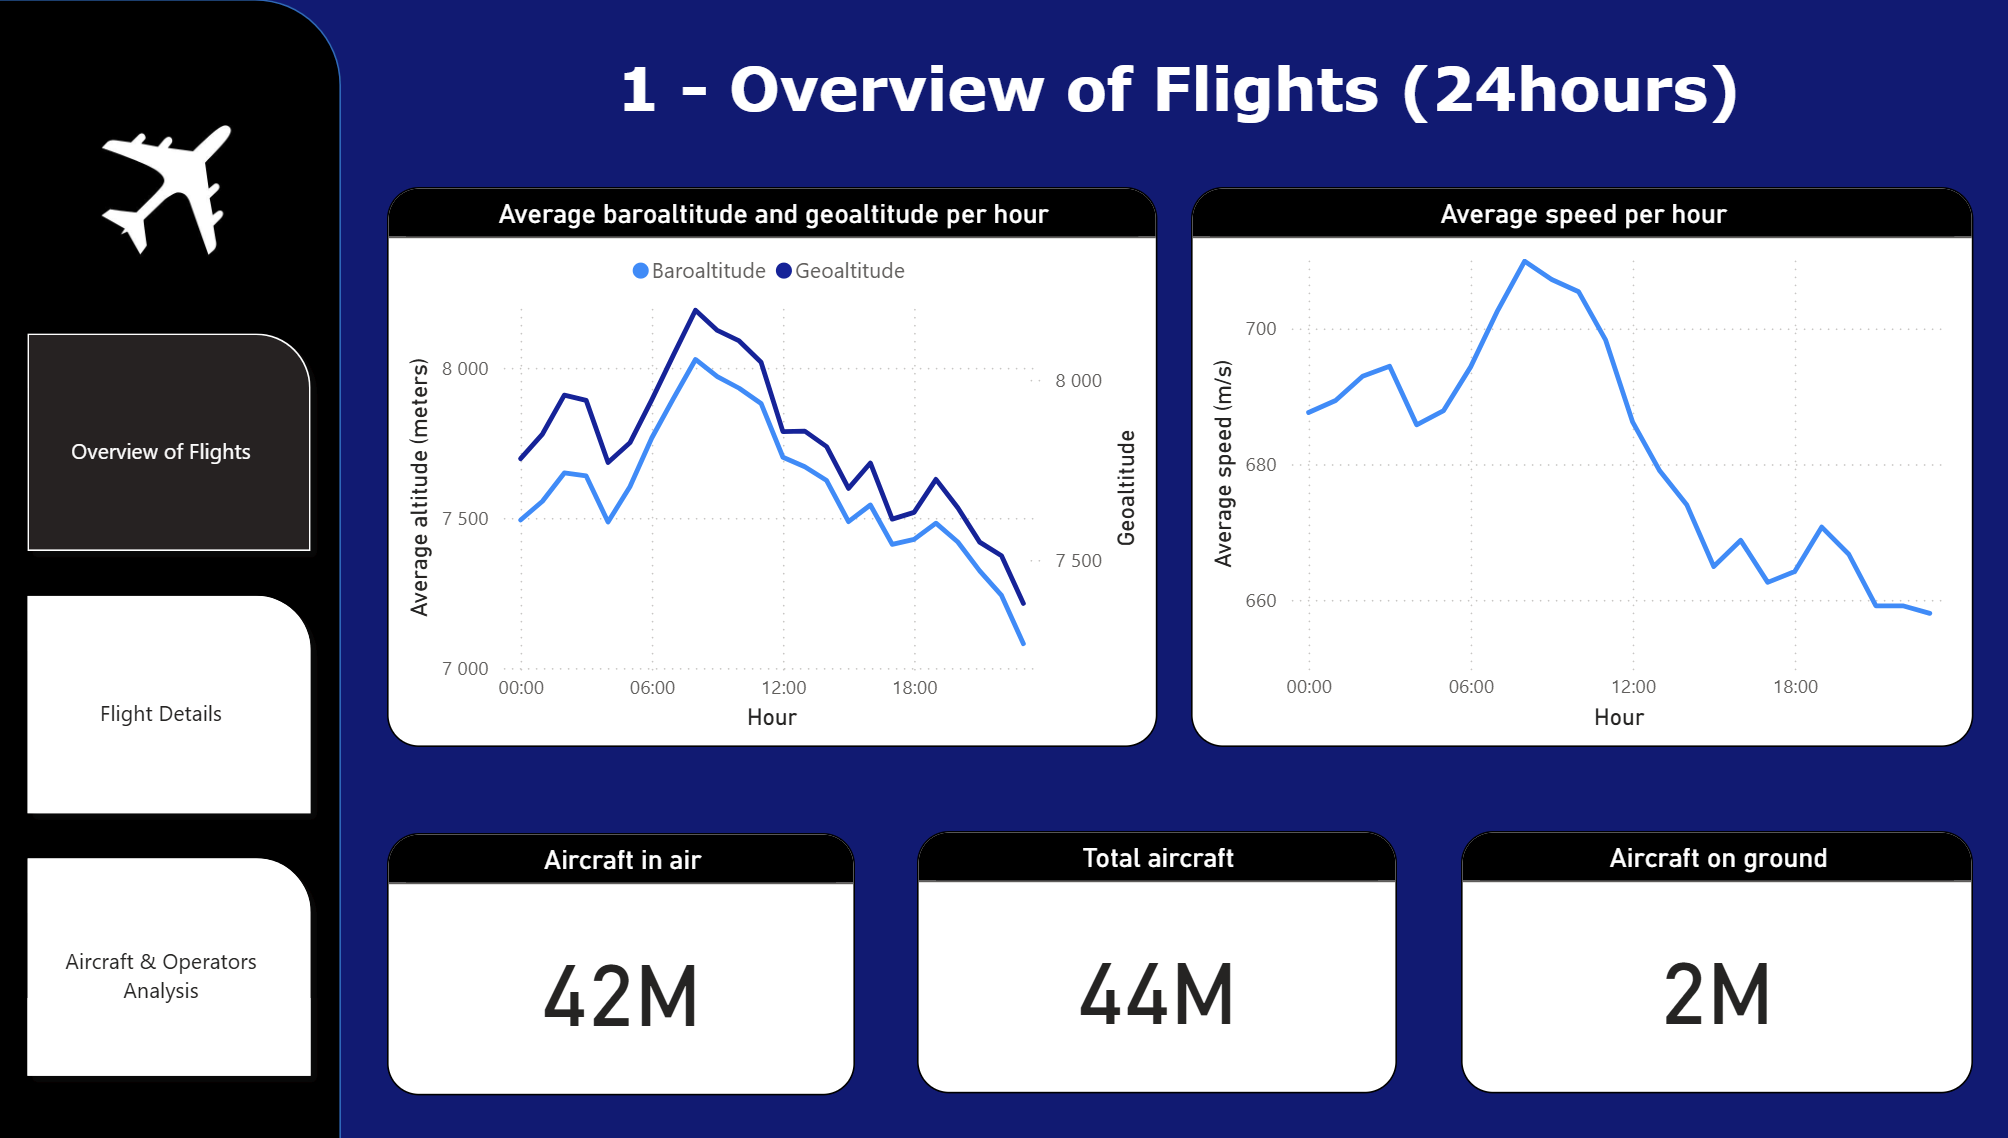

Layout of this report page (visuals, bound fields, positions):
{"tool":"powerbi","page":{"name":"Overview of Flights","canvas":[1280,720],"ordinal":0},"visuals":[{"type":"shape","box":[13.8,0,215,720],"z":0},{"type":"card","title":"Total aircraft","fields":{"Values":["Sum(mart_flight_summary.total_flights)"]},"box":[588.8,520,300,163.8],"z":1000},{"type":"card","title":"Aircraft in air ","fields":{"Values":["Sum(mart_flight_summary.flights_in_air)"]},"box":[257.5,521.2,292.5,163.8],"z":2000},{"type":"card","title":"Aircraft on ground","fields":{"Values":["Sum(mart_flight_summary.flights_on_ground)"]},"box":[928.8,520,320,163.8],"z":3000},{"type":"lineChart","title":"Average speed per hour","fields":{"Category":["mart_flight_summary.hour"],"Y":["Sum(mart_flight_summary.avg_speed_kmh)"]},"box":[760,117.5,488.8,350],"z":4000},{"type":"lineChart","title":"Average baroaltitude and geoaltitude per hour","fields":{"Category":["mart_flight_summary.hour"],"Y":["Sum(mart_flight_summary.avg_baro_altitude_m)"],"Y2":["Sum(mart_flight_summary.avg_geo_altitude_m)"]},"box":[257.5,117.5,481.2,350],"z":5000},{"type":"pageNavigator","box":[23.8,200,195,483.8],"z":6000},{"type":"textbox","box":[396.5,28,725.4,57.4],"z":7000},{"type":"image","box":[40,37.5,161.2,161.2],"z":8000}]}

Visuals, with their boxes in screenshot pixels (x1, y1, x2, y2), scaled from the page's 1280x720 canvas onto the 2008x1138 screenshot:
shape: Rect(22, 0, 359, 1137)
"Total aircraft" card: Rect(924, 822, 1394, 1081)
"Aircraft in air " card: Rect(404, 824, 863, 1083)
"Aircraft on ground" card: Rect(1457, 822, 1959, 1081)
"Average speed per hour" lineChart: Rect(1192, 186, 1959, 739)
"Average baroaltitude and geoaltitude per hour" lineChart: Rect(404, 186, 1159, 739)
pageNavigator: Rect(37, 316, 343, 1081)
textbox: Rect(622, 44, 1760, 135)
image: Rect(63, 59, 316, 314)
